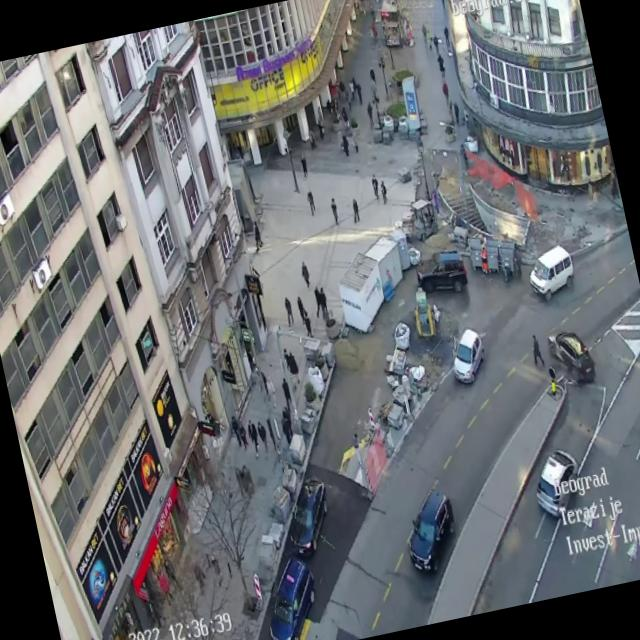car: (253, 551, 327, 640), (396, 482, 464, 574), (278, 473, 338, 559), (526, 446, 588, 522), (523, 242, 578, 303), (546, 326, 597, 388), (413, 246, 471, 298), (444, 324, 492, 386)
